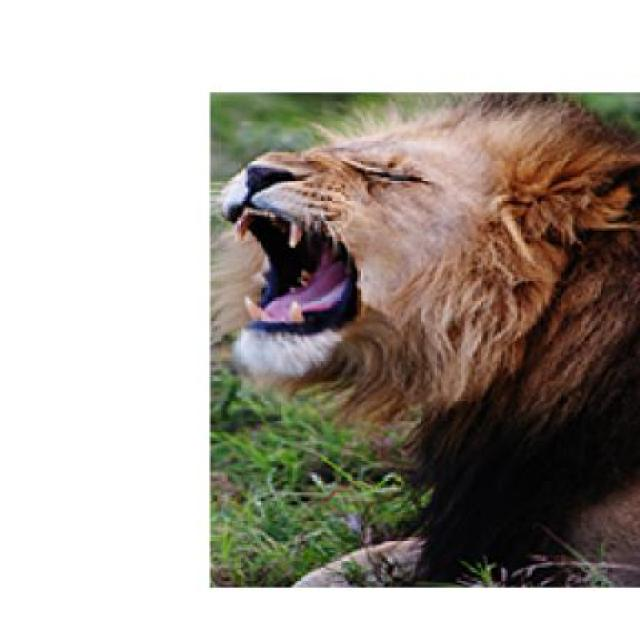Lion: (211, 111, 638, 600)
